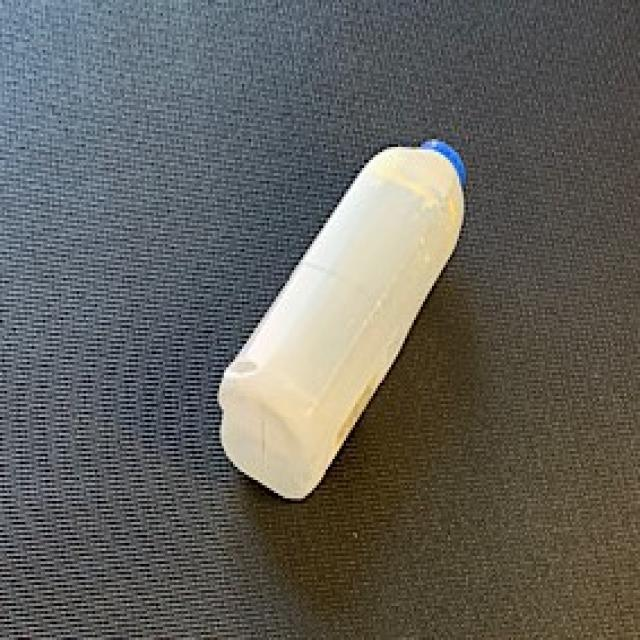HDPE Plastic: (208, 132, 475, 509)
